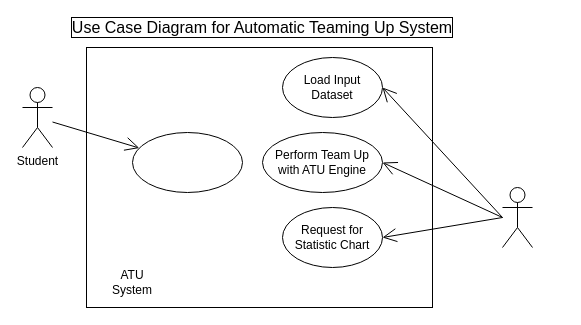
The diagram is 581 pixels wide and 325 high, and some of its shapes have lost their labels. The centre of each missing label's shape, as x and y in pixels:
Course Instructor: (x=517, y=217)
Request Group Information: (x=187, y=162)
